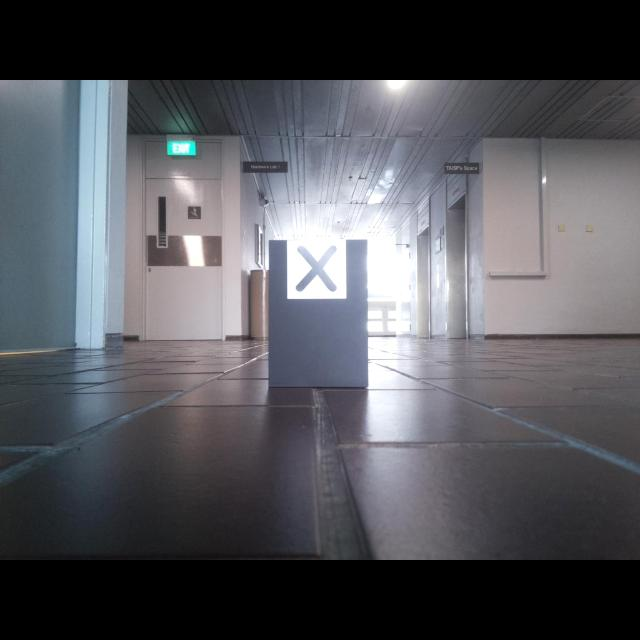X: (295, 245, 337, 292)
